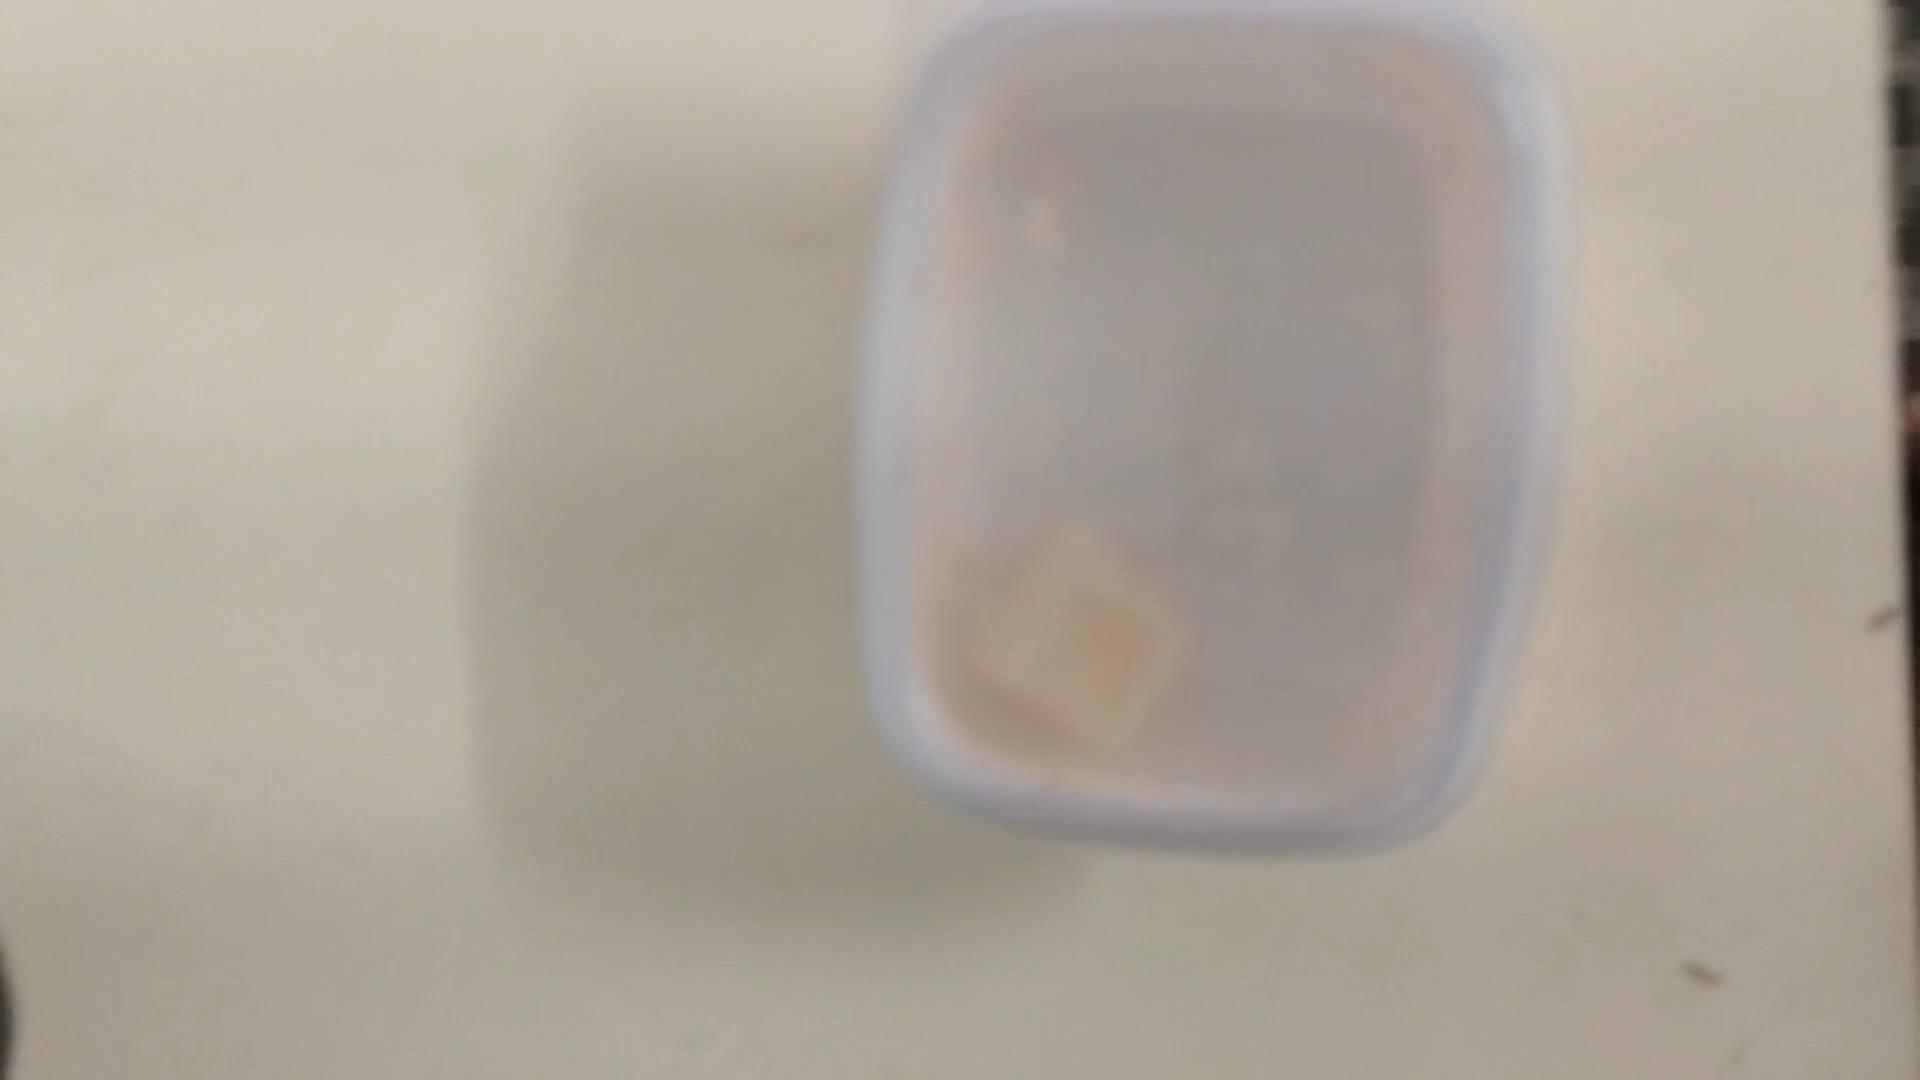butter: (860, 7, 1559, 860)
